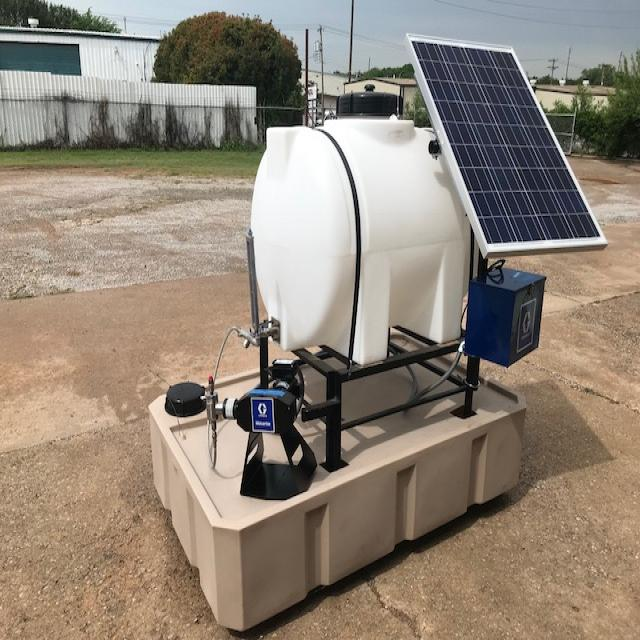no faulty: (415, 42, 598, 242)
